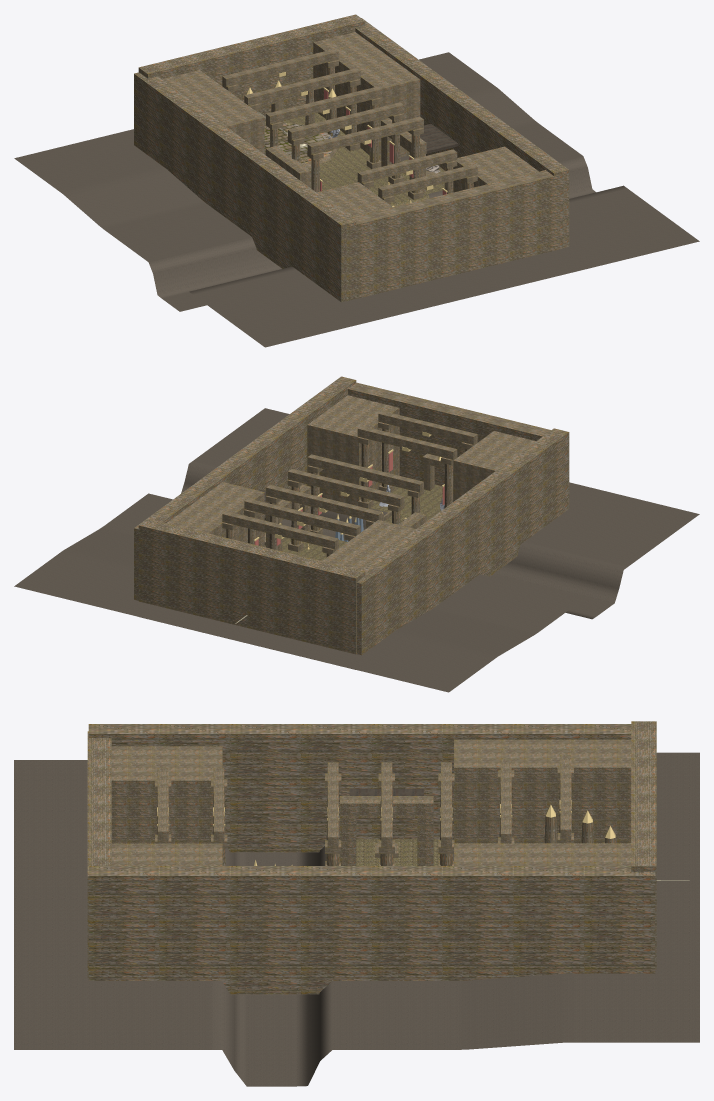
The model's file is world.glb.
The picture shows the model from 3 angles, top to bottom: view 1: azimuth 30°, elevation 25°; view 2: azimuth 150°, elevation 25°; view 3: azimuth 270°, elevation 25°; orthographic projection. The views are drawn at different scales.
Parts seen in each view (by area): view 1: karveth-echo-tomb_Masonry, karveth-echo-tomb_Terrain, karveth-echo-tomb_Roads, karveth-echo-tomb_ImportedCatalogAndFlora, karveth-echo-tomb_Timber; view 2: karveth-echo-tomb_Masonry, karveth-echo-tomb_Terrain, karveth-echo-tomb_Roads, karveth-echo-tomb_ImportedCatalogAndFlora; view 3: karveth-echo-tomb_Masonry, karveth-echo-tomb_Terrain, karveth-echo-tomb_Roads.
Boxes of the visible parts, x1,y1,x2,y2 form: karveth-echo-tomb_Masonry: [134, 14, 569, 302]; karveth-echo-tomb_Terrain: [14, 52, 699, 347]; karveth-echo-tomb_Roads: [264, 113, 444, 206]; karveth-echo-tomb_ImportedCatalogAndFlora: [246, 72, 447, 206]; karveth-echo-tomb_Timber: [420, 124, 458, 153]; karveth-echo-tomb_Masonry: [134, 376, 569, 669]; karveth-echo-tomb_Terrain: [14, 408, 699, 692]; karveth-echo-tomb_Roads: [264, 484, 442, 560]; karveth-echo-tomb_ImportedCatalogAndFlora: [235, 432, 444, 623]; karveth-echo-tomb_Masonry: [87, 721, 656, 994]; karveth-echo-tomb_Terrain: [14, 752, 699, 1086]; karveth-echo-tomb_Roads: [339, 839, 439, 865].
Bounding box in the file's own units: 92 × 22.9 × 92.
Materials: 5 (4 with a texture image).
